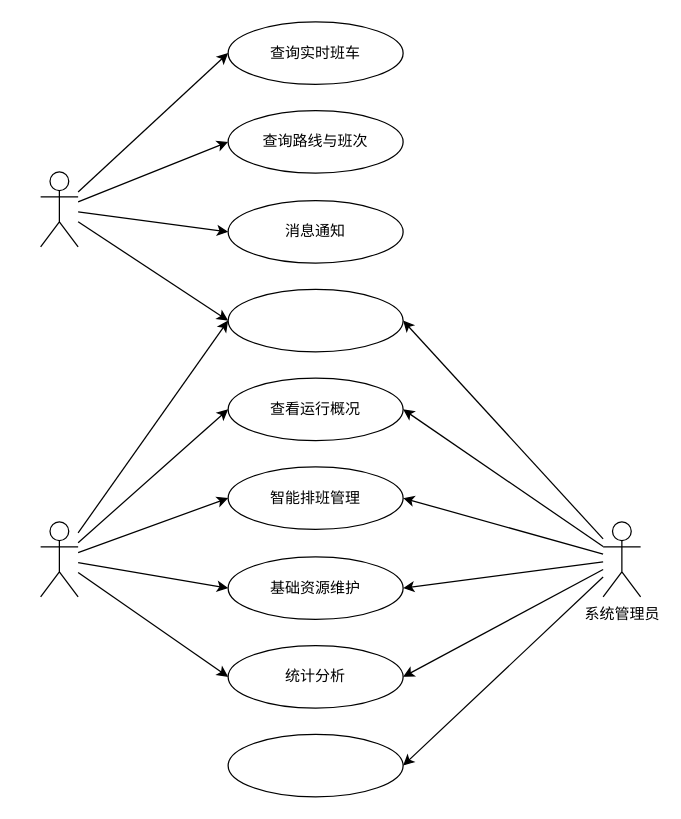
Image size: 681x819. Some labels were removed from this diagram. The box of each missing label's shape, as (x1, y1, x2, y2) in pixels:
师生: (39, 171, 78, 247)
登录: (227, 288, 403, 352)
系统参数配置: (227, 733, 403, 797)
调度管理员: (39, 521, 78, 597)
